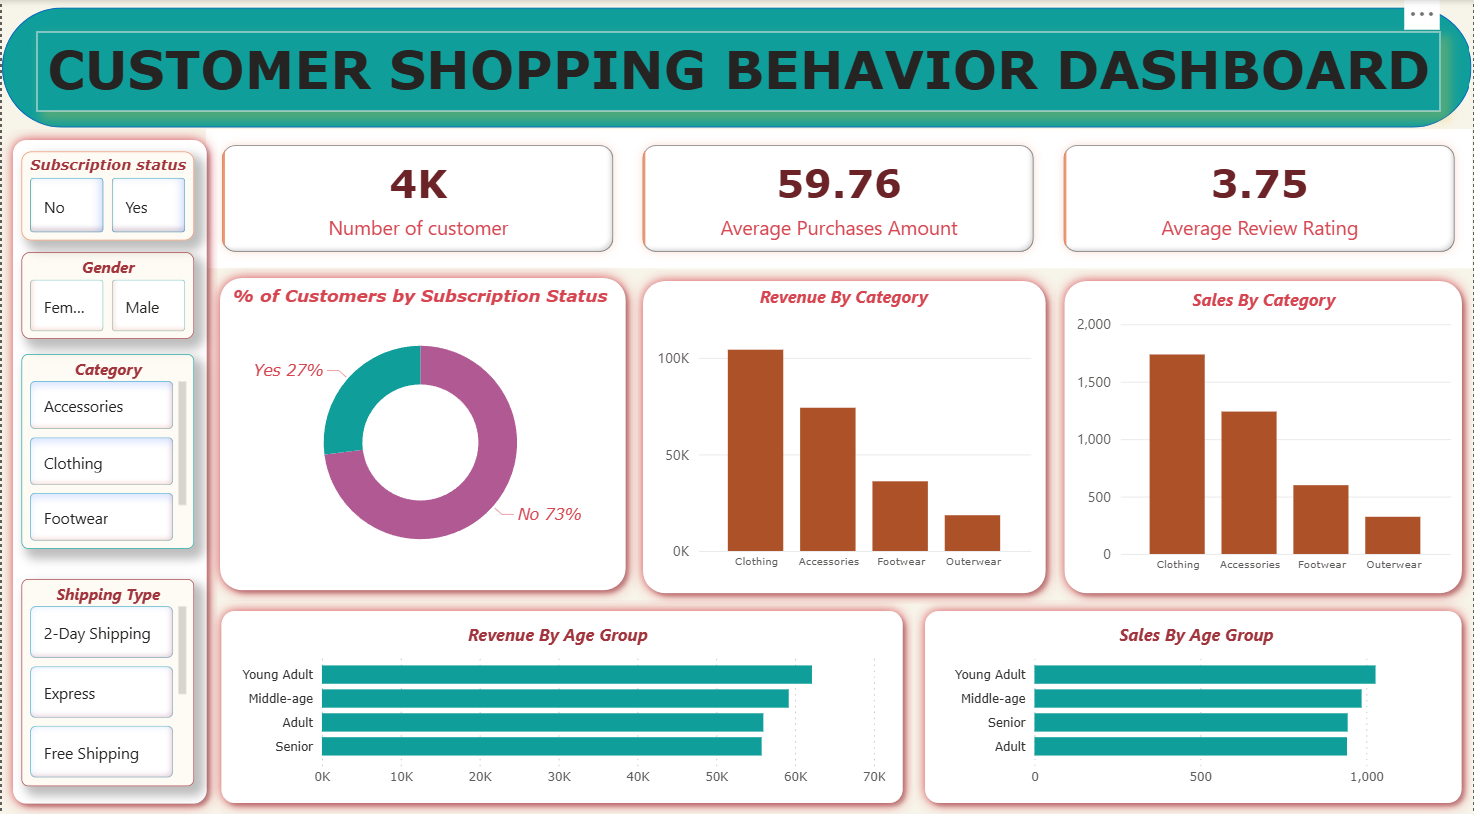

The dashboard page shown, as its layout file describes it:
{"tool":"powerbi","page":{"name":"Page 1","canvas":[1500,830],"ordinal":0},"visuals":[{"type":"cardVisual","fields":{"Data":["public customer.Number of customer","public customer.Average Purchases Amount","public customer.Average Review Rating"]},"box":[207.6,131.3,1291.8,142],"z":0},{"type":"shape","box":[1071.8,275,427.6,340.7],"z":0,"group":"g3"},{"type":"shape","box":[212.9,612.2,716.9,218.3],"z":0,"group":"g4"},{"type":"shape","box":[0,131.3,220,699.1],"z":1000},{"type":"clusteredColumnChart","title":"Sales By Category","fields":{"Y":["CountNonNull(public customer.customer_id)"],"Category":["public customer.category"]},"box":[1089.5,292.7,392.2,299.9],"z":1000,"group":"g3"},{"type":"shape","box":[0,7.1,1499.4,122.4],"z":2000},{"type":"textbox","box":[35.5,31.9,1432,81.6],"z":3000},{"type":"shape","box":[210.6,272.2,436.1,340.7],"z":3000,"group":"g1"},{"type":"shape","box":[642.4,275.6,433,340.7],"z":3000,"group":"g2"},{"type":"group","id":"g1","title":"Group 1","box":[210.6,272.2,436.1,340.7],"z":4000},{"type":"donutChart","title":"% of Customers by Subscription Status","fields":{"Category":["public customer.subscription_status"],"Y":["CountNonNull(public customer.customer_id)"]},"box":[228.8,290.4,393.7,299.8],"z":4000,"group":"g1"},{"type":"clusteredColumnChart","title":"Revenue By Category","fields":{"Y":["Sum(public customer.purchase_amount)"],"Category":["public customer.category"]},"box":[661.9,291,392.2,299.9],"z":4002,"group":"g2"},{"type":"clusteredBarChart","title":"Revenue By Age Group","fields":{"Y":["Sum(public customer.purchase_amount)"],"Category":["public customer.age_group"]},"box":[228.9,635.3,677.8,173.9],"z":4010,"group":"g4"},{"type":"group","id":"g2","title":"Group 2","box":[642.4,275.6,433,340.7],"z":5000},{"type":"group","id":"g3","title":"Group 3","box":[1071.8,275,427.6,340.7],"z":6000},{"type":"advancedSlicerVisual","fields":{"Values":["public customer.subscription_status"]},"box":[19.5,154.4,175.7,90.5],"z":7000},{"type":"advancedSlicerVisual","fields":{"Values":["public customer.gender"]},"box":[19.5,257.3,175.7,88.7],"z":8000},{"type":"advancedSlicerVisual","fields":{"Values":["public customer.category"]},"box":[19.5,360.2,175.7,198.7],"z":9000},{"type":"advancedSlicerVisual","fields":{"Values":["public customer.shipping_type"]},"box":[19.5,590.9,175.7,211.2],"z":10000},{"type":"shape","box":[929.8,612.2,569.6,218.3],"z":11000},{"type":"clusteredBarChart","title":"Sales By Age Group","fields":{"Category":["public customer.age_group"],"Y":["CountNonNull(public customer.customer_id)"]},"box":[954.7,635.3,527,173.9],"z":11001},{"type":"group","id":"g4","title":"Group 4","box":[212.9,612.2,716.9,218.3],"z":11002}]}

Visuals, with their boxes in screenshot pixels (x1, y1, x2, y2), scaled from the page's 1500x830 canvas onto the 1474x814 screenshot:
cardVisual - public customer.Number of customer x public customer.Average Purchases Amount: Rect(204, 129, 1473, 268)
shape: Rect(1053, 270, 1473, 604)
shape: Rect(209, 600, 914, 813)
shape: Rect(0, 129, 216, 813)
"Sales By Category" clusteredColumnChart: Rect(1071, 287, 1456, 581)
shape: Rect(0, 7, 1473, 127)
textbox: Rect(35, 31, 1442, 111)
shape: Rect(207, 267, 635, 601)
shape: Rect(631, 270, 1057, 604)
"Group 1" group: Rect(207, 267, 635, 601)
"% of Customers by Subscription Status" donutChart: Rect(225, 285, 612, 579)
"Revenue By Category" clusteredColumnChart: Rect(650, 285, 1036, 580)
"Revenue By Age Group" clusteredBarChart: Rect(225, 623, 891, 794)
"Group 2" group: Rect(631, 270, 1057, 604)
"Group 3" group: Rect(1053, 270, 1473, 604)
advancedSlicerVisual - public customer.subscription_status: Rect(19, 151, 192, 240)
advancedSlicerVisual - public customer.gender: Rect(19, 252, 192, 339)
advancedSlicerVisual - public customer.category: Rect(19, 353, 192, 548)
advancedSlicerVisual - public customer.shipping_type: Rect(19, 580, 192, 787)
shape: Rect(914, 600, 1473, 813)
"Sales By Age Group" clusteredBarChart: Rect(938, 623, 1456, 794)
"Group 4" group: Rect(209, 600, 914, 813)
